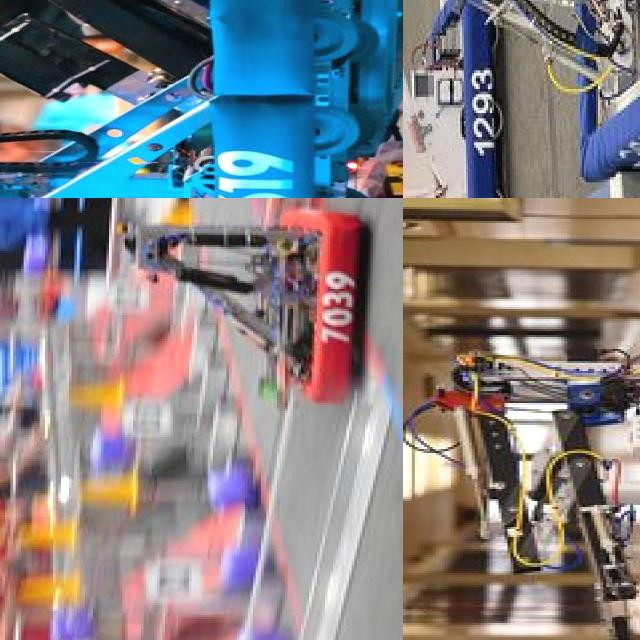FRC-Robots: (403, 258, 640, 640), (0, 0, 403, 198), (108, 200, 370, 410), (403, 0, 640, 187), (403, 0, 519, 198)
